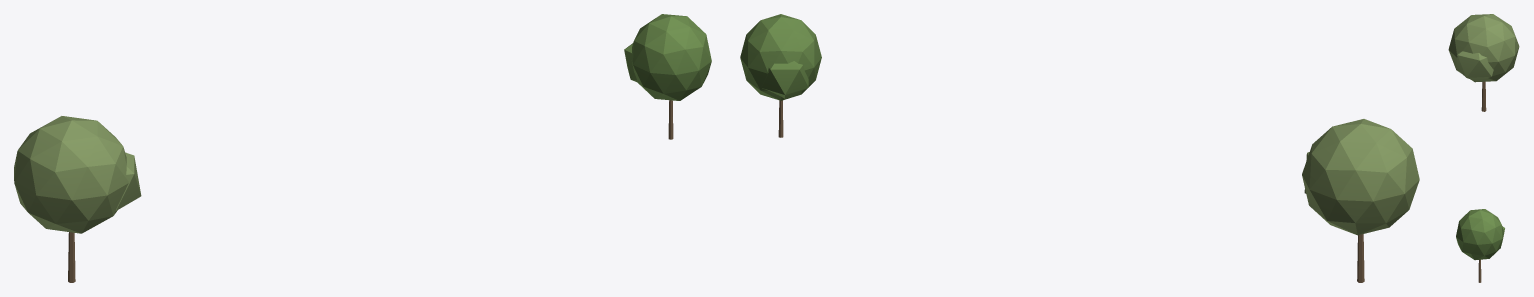
3 renders of one model, left to right at view 1: azimuth 30°, elevation 25°; view 2: azimuth 150°, elevation 25°; view 3: azimuth 270°, elevation 25°, orthographic. The views are drawn at different scales.
Parts seen in each view (by area): view 1: tree_5565, tree_5566; view 2: tree_5565, tree_5566; view 3: tree_5565, tree_5566.
Part boxes in pixels (box(x1,y1,x2,y2)): tree_5565: box(14, 116, 141, 282); tree_5566: box(624, 14, 711, 139); tree_5565: box(1302, 119, 1419, 282); tree_5566: box(740, 14, 821, 137); tree_5565: box(1448, 14, 1519, 111); tree_5566: box(1456, 209, 1504, 282).
Bounding box in the file's own units: 52.86 × 11.91 × 8.07.
